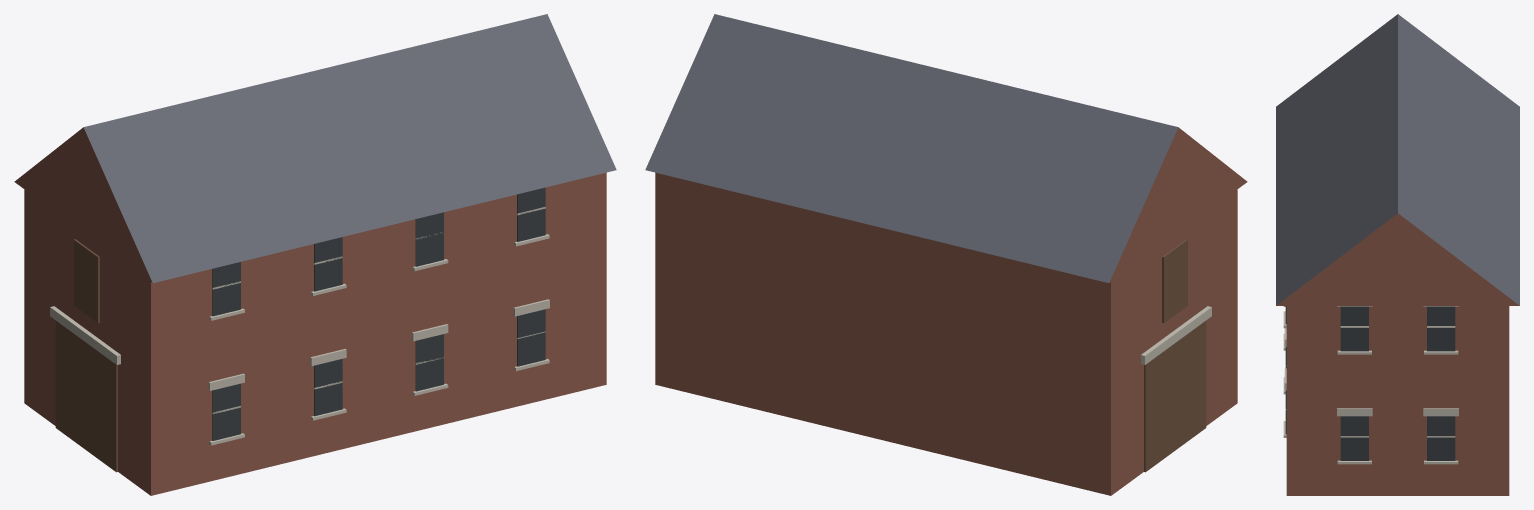
File: house_2011_prairie_coach_house__draft_1904.glb
3 views of the same model, side by side, from view 1: azimuth 30°, elevation 25°; view 2: azimuth 150°, elevation 25°; view 3: azimuth 270°, elevation 25° (orthographic). The views are drawn at different scales.
Parts seen in each view (by area): view 1: house_2011_prairie_coach_house__draft_1904; view 2: house_2011_prairie_coach_house__draft_1904; view 3: house_2011_prairie_coach_house__draft_1904.
Boxes of the visible parts, x1,y1,x2,y2 form: house_2011_prairie_coach_house__draft_1904: [14, 14, 616, 495]; house_2011_prairie_coach_house__draft_1904: [645, 14, 1247, 495]; house_2011_prairie_coach_house__draft_1904: [1276, 14, 1519, 495].
Size of the model in its own units: 13.24 by 8.82 by 6.85.
